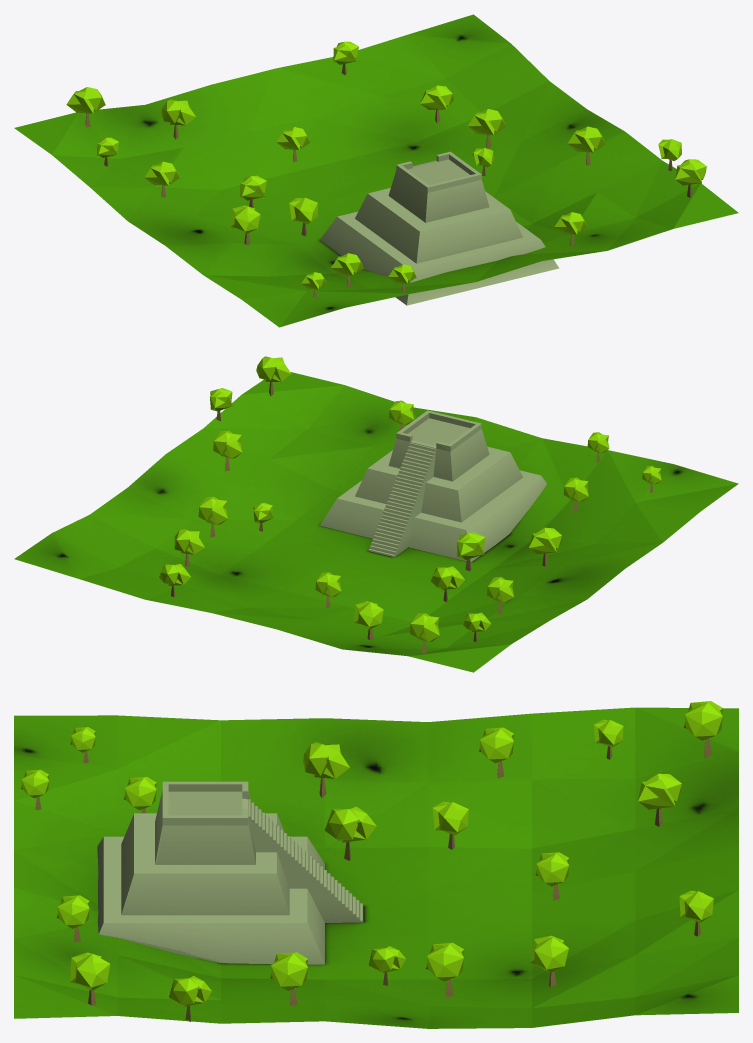
The model's file is model_scene-temple_04.dae.
The picture shows the model from 3 angles, top to bottom: view 1: azimuth 30°, elevation 25°; view 2: azimuth 150°, elevation 25°; view 3: azimuth 270°, elevation 25°; orthographic projection. The views are drawn at different scales.
Parts seen in each view (by area): view 1: terrain, temple_002, tree_original_010, tree_original_008, tree_original_016, tree_original_021, tree_original_013, tree_original_015, tree_original_006, tree_original_020, tree_original_007, tree_original_009 (+4 smaller); view 2: terrain, temple_002, tree_original_015, tree_original_013, tree_original_010, tree_original_008, tree_original_006, tree_original_016, tree_original_021, tree_original_020, tree_original_018, tree_original_007 (+3 smaller); view 3: terrain, temple_002, tree_original_006, tree_original_015, tree_original_021, tree_original_010, tree_original_013, tree_original_008, tree_original_016, tree_original_020, tree_original_007, tree_original_018 (+9 smaller).
Part boxes in pixels (x1=…): terrain: x1=14, y1=14, x2=738, y2=327; temple_002: x1=320, y1=151, x2=559, y2=305; tree_original_010: x1=66, y1=87, x2=105, y2=127; tree_original_008: x1=467, y1=109, x2=505, y2=148; tree_original_016: x1=567, y1=126, x2=605, y2=165; tree_original_021: x1=161, y1=99, x2=195, y2=139; tree_original_013: x1=675, y1=159, x2=706, y2=197; tree_original_015: x1=230, y1=205, x2=260, y2=245; tree_original_006: x1=289, y1=197, x2=317, y2=235; tree_original_020: x1=420, y1=85, x2=453, y2=122; tree_original_007: x1=144, y1=161, x2=179, y2=197; tree_original_009: x1=276, y1=127, x2=310, y2=161; terrain: x1=14, y1=372, x2=738, y2=672; temple_002: x1=320, y1=410, x2=546, y2=562; tree_original_015: x1=529, y1=527, x2=561, y2=566; tree_original_013: x1=256, y1=356, x2=291, y2=396; tree_original_010: x1=410, y1=613, x2=439, y2=653; tree_original_008: x1=198, y1=496, x2=227, y2=537; tree_original_006: x1=457, y1=532, x2=485, y2=571; tree_original_016: x1=213, y1=430, x2=242, y2=471; tree_original_021: x1=354, y1=601, x2=383, y2=639; tree_original_020: x1=174, y1=529, x2=204, y2=566; tree_original_018: x1=431, y1=566, x2=464, y2=602; tree_original_007: x1=487, y1=577, x2=513, y2=614; terrain: x1=14, y1=707, x2=738, y2=1028; temple_002: x1=97, y1=781, x2=363, y2=964; tree_original_006: x1=324, y1=806, x2=376, y2=860; tree_original_015: x1=303, y1=742, x2=349, y2=797; tree_original_021: x1=638, y1=773, x2=681, y2=826; tree_original_010: x1=683, y1=701, x2=722, y2=757; tree_original_013: x1=70, y1=952, x2=110, y2=1005; tree_original_008: x1=425, y1=942, x2=464, y2=996; tree_original_016: x1=270, y1=952, x2=307, y2=1005; tree_original_020: x1=530, y1=935, x2=568, y2=987; tree_original_007: x1=479, y1=727, x2=513, y2=778; tree_original_018: x1=432, y1=801, x2=468, y2=849.
Bounding box in the file's own units: 241 × 238 × 42.15.
